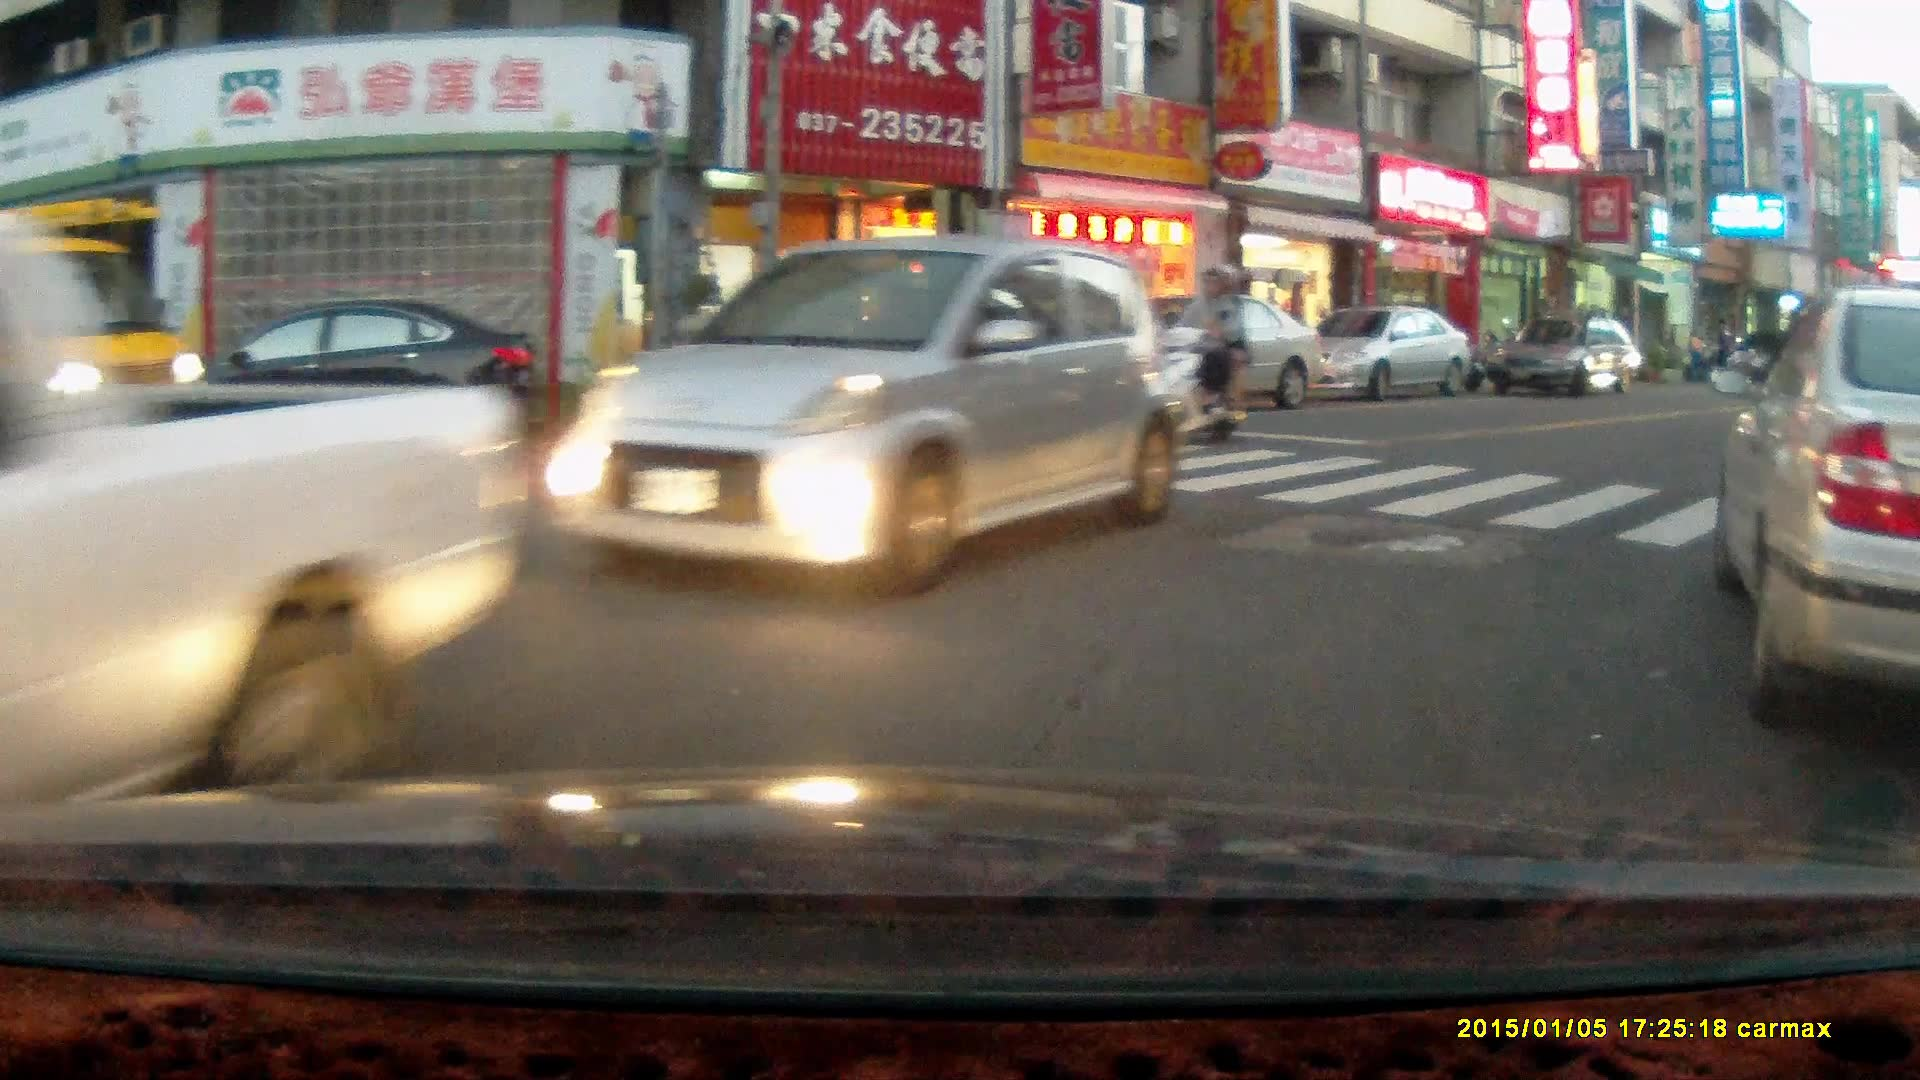rider: (1128, 260, 1252, 447)
vehicle: (1, 331, 531, 800), (537, 239, 1185, 596), (1712, 284, 1920, 746), (202, 293, 539, 448), (1129, 293, 1317, 414), (1297, 305, 1472, 399), (1485, 317, 1648, 400)
